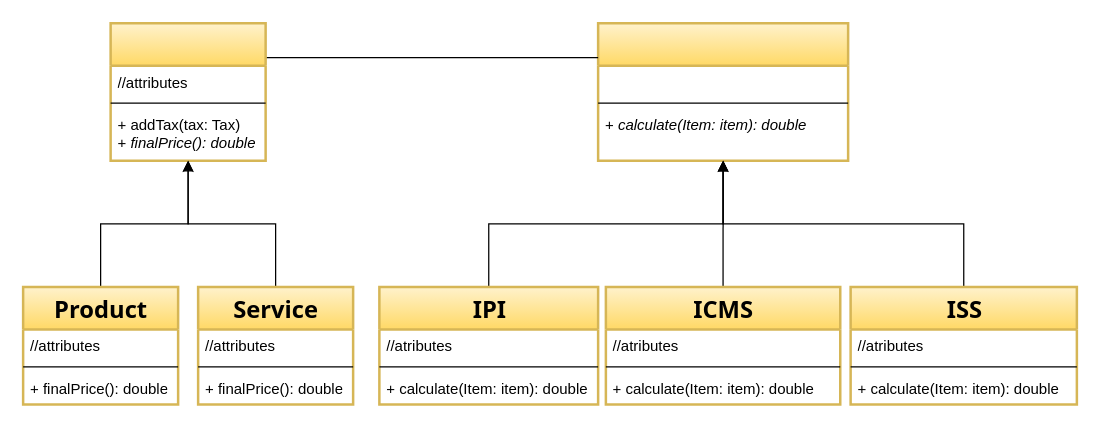
Some shapes in this 1099 by 429 pixel diagram are drawn without their labels. Each missing label, with the box of its shape:
Item: (109, 21, 266, 161)
Tax: (596, 21, 849, 161)
